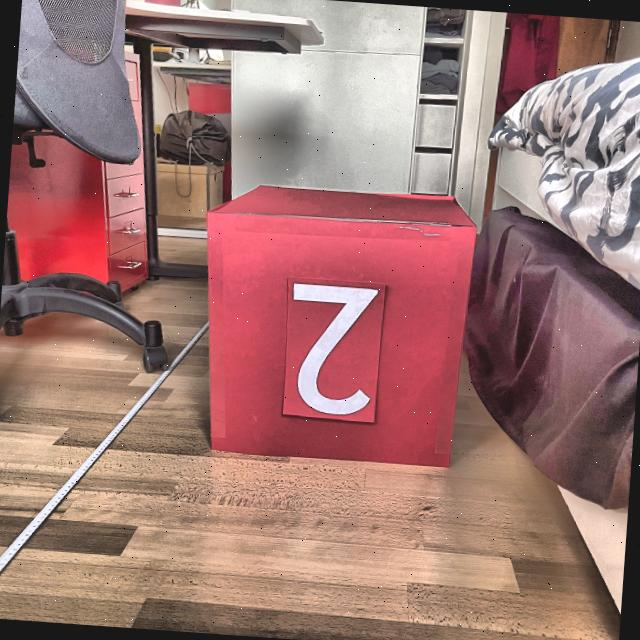red box: (190, 176, 479, 473)
two: (281, 284, 382, 418)
